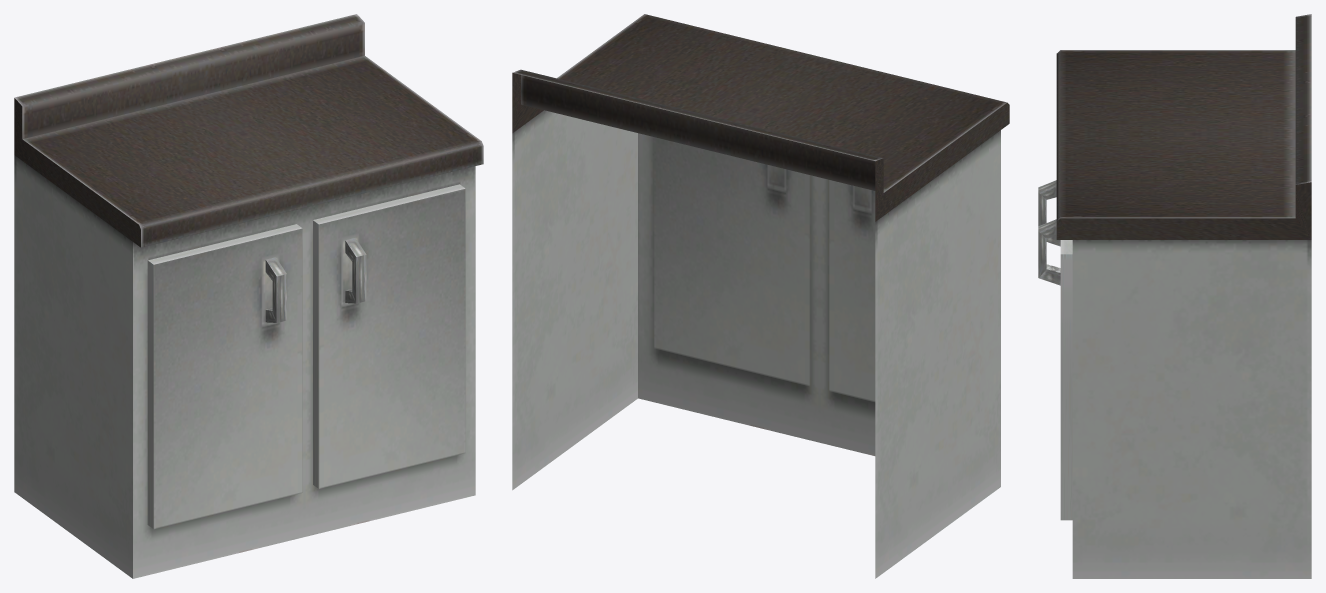
Rendered from corporate_counter.fbx.
3 views of the same model, side by side, from view 1: azimuth 30°, elevation 25°; view 2: azimuth 150°, elevation 25°; view 3: azimuth 270°, elevation 25° (orthographic). The views are drawn at different scales.
Visible parts, largest first — view 1: mesh_0; view 2: mesh_0; view 3: mesh_0.
Boxes of the visible parts, x1,y1,x2,y2 form: mesh_0: [14, 14, 483, 578]; mesh_0: [512, 14, 1009, 578]; mesh_0: [1038, 14, 1311, 578].
Size of the model in its own units: 100 by 110 by 68.63.
1 material, 1 textured.
